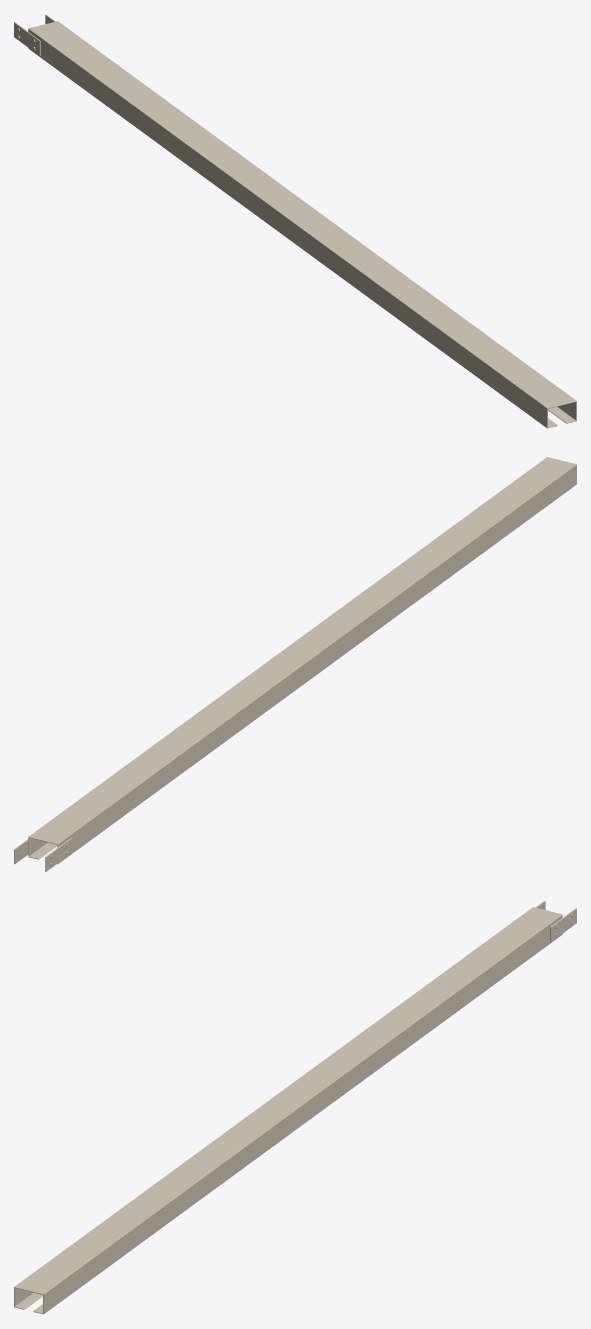
The model's file is Kit_RunRecede_Track_3m.fbx.
The picture shows the model from 3 angles, top to bottom: view 1: azimuth 30°, elevation 25°; view 2: azimuth 150°, elevation 25°; view 3: azimuth 330°, elevation 25°; orthographic projection.
Parts seen in each view (by area): view 1: Kit_RunRecede_Track_3m_LOD0; view 2: Kit_RunRecede_Track_3m_LOD0; view 3: Kit_RunRecede_Track_3m_LOD0.
Part boxes in pixels (box(x1,y1,x2,y2)): Kit_RunRecede_Track_3m_LOD0: box(14, 14, 576, 428); Kit_RunRecede_Track_3m_LOD0: box(14, 457, 576, 871); Kit_RunRecede_Track_3m_LOD0: box(14, 900, 576, 1314).
Size of what is drawn, in the model's own units: 0.114 by 0.065 by 3.08.
